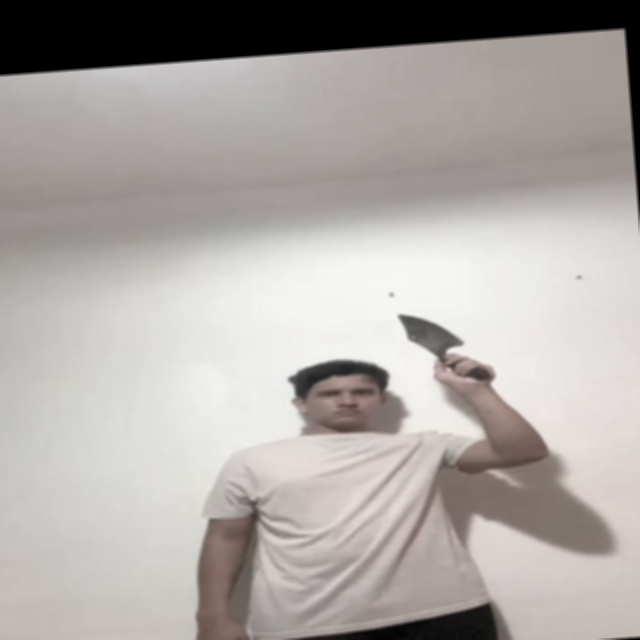Sharp-Object: (392, 310, 459, 351)
